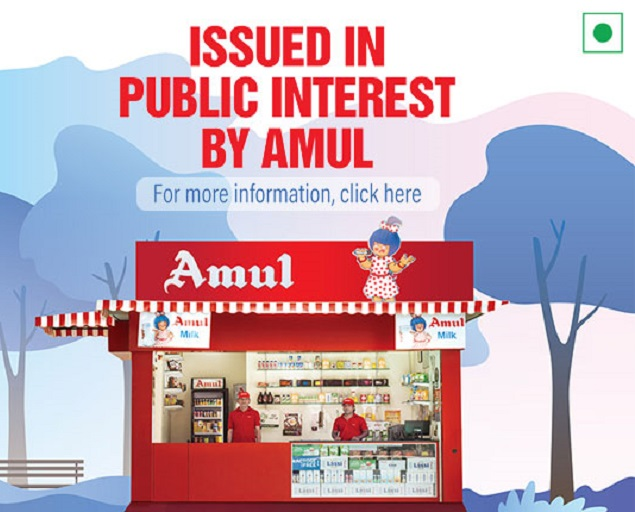Amul: (151, 245, 297, 293)
